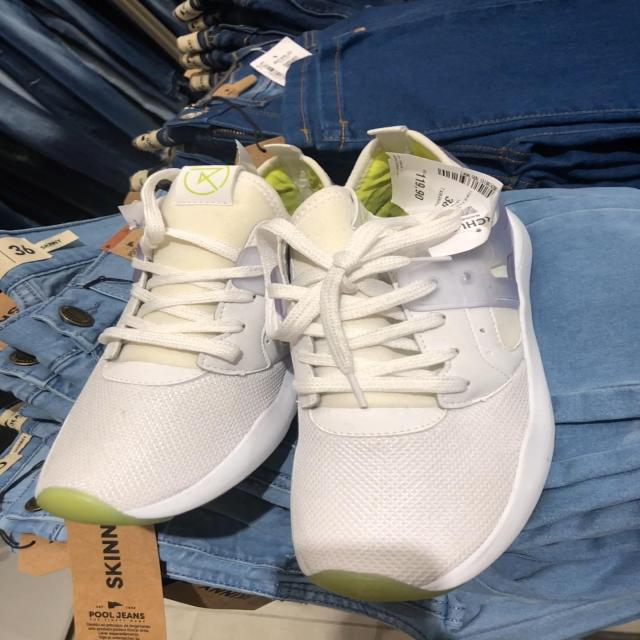shoe: (256, 128, 556, 608), (30, 148, 326, 528)
